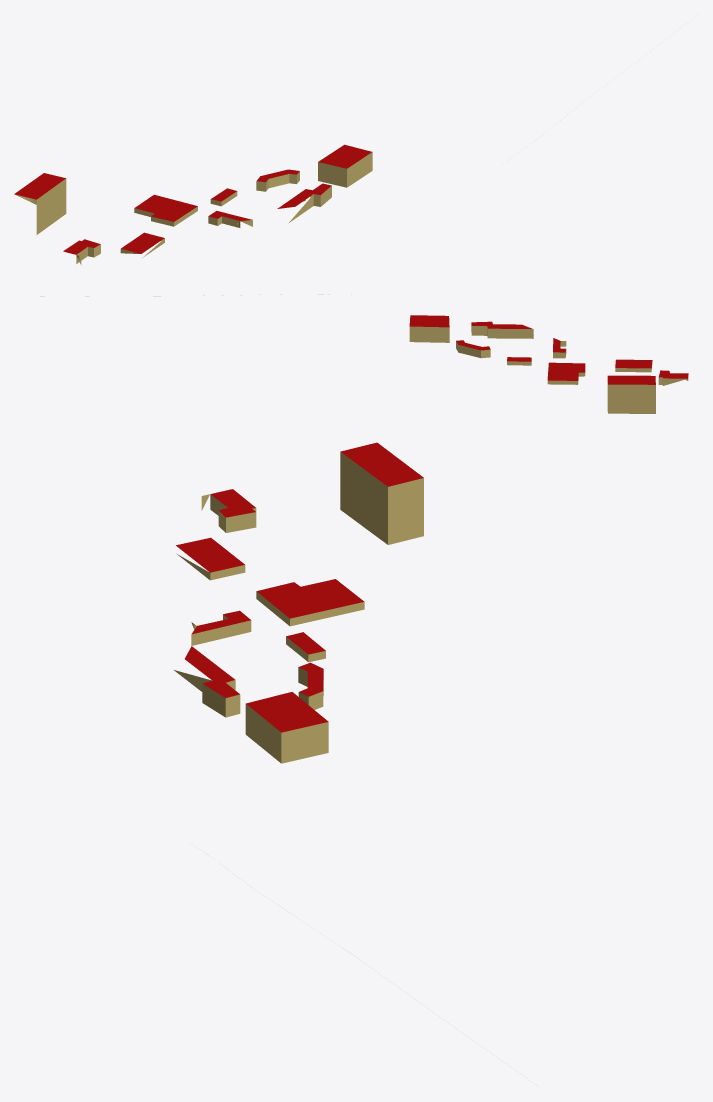
3 views of the same model, one above another, from view 1: azimuth 30°, elevation 25°; view 2: azimuth 150°, elevation 25°; view 3: azimuth 270°, elevation 25° (orthographic). The views are drawn at different scales.
Size of the model in its own units: 811 by 37.5 by 214.
